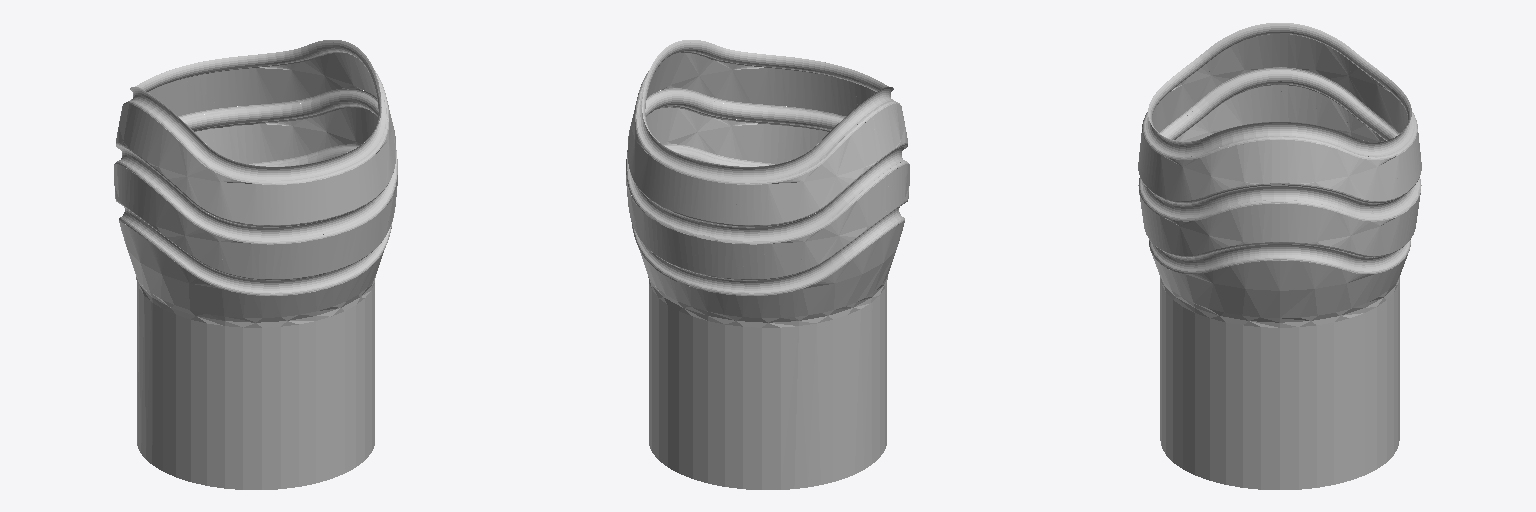
File: original-3.obj
3 renders of one model, left to right at view 1: azimuth 30°, elevation 25°; view 2: azimuth 150°, elevation 25°; view 3: azimuth 270°, elevation 25°, orthographic.
Parts seen in each view (by area): view 1: mesh2/mesh2-geometry#mesh2-geometry; view 2: mesh2/mesh2-geometry#mesh2-geometry; view 3: mesh2/mesh2-geometry#mesh2-geometry.
Part boxes in pixels (x1,y1,x2,y2): mesh2/mesh2-geometry#mesh2-geometry: (114, 40, 397, 489); mesh2/mesh2-geometry#mesh2-geometry: (626, 40, 909, 489); mesh2/mesh2-geometry#mesh2-geometry: (1138, 23, 1421, 489).
Size of the model in its own units: 0.5144 by 0.7363 by 0.515.